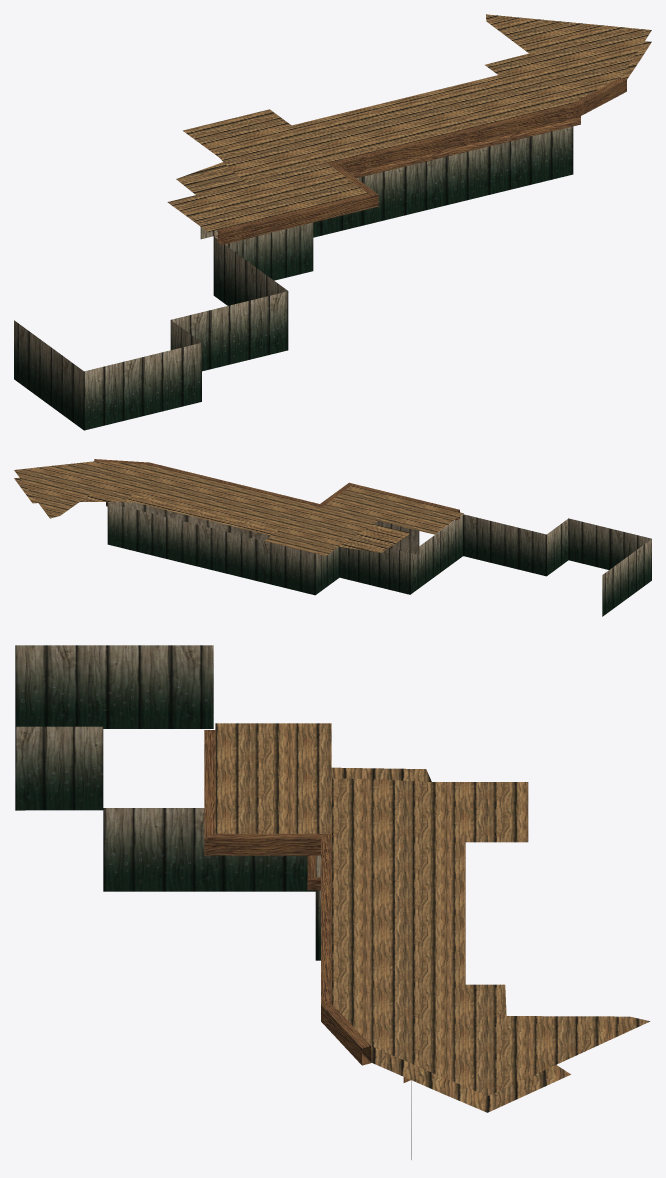
File: LAKETOWN_EXTERIOR_PS_LT_PIERPARTS885756__GX.fbx
3 renders of one model, top to bottom at view 1: azimuth 30°, elevation 25°; view 2: azimuth 150°, elevation 25°; view 3: azimuth 270°, elevation 25°, orthographic. The views are drawn at different scales.
Parts seen in each view (by area): view 1: LAKETOWN_EXTERIOR_PS_LT_PIERPARTS885756__GX; view 2: LAKETOWN_EXTERIOR_PS_LT_PIERPARTS885756__GX; view 3: LAKETOWN_EXTERIOR_PS_LT_PIERPARTS885756__GX.
Part boxes in pixels (box(x1,y1,x2,y2)): LAKETOWN_EXTERIOR_PS_LT_PIERPARTS885756__GX: box(14, 14, 651, 430); LAKETOWN_EXTERIOR_PS_LT_PIERPARTS885756__GX: box(14, 459, 651, 616); LAKETOWN_EXTERIOR_PS_LT_PIERPARTS885756__GX: box(15, 645, 649, 1159).
Size of the model in its own units: 315210 by 40646 by 166820.
Materials: 5 (5 with a texture image).
